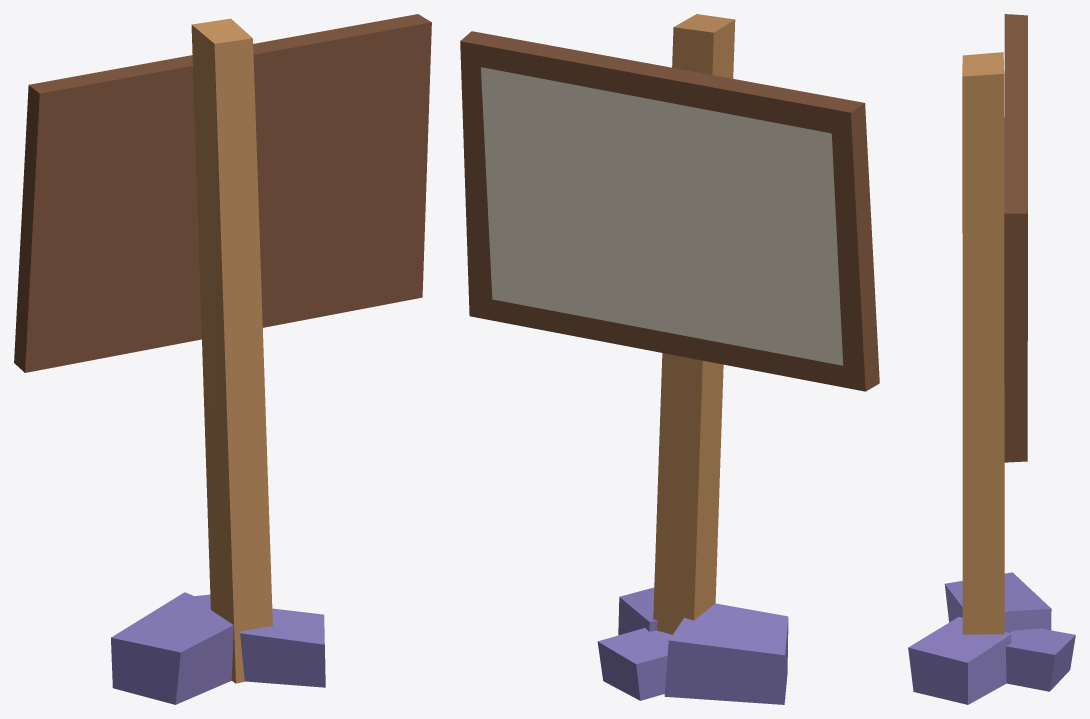
File: signpost.fbx
The picture shows the model from 3 angles, left to right: view 1: azimuth 30°, elevation 25°; view 2: azimuth 150°, elevation 25°; view 3: azimuth 270°, elevation 25°; orthographic projection. The views are drawn at different scales.
Visible parts, largest first — view 1: signpost; view 2: signpost; view 3: signpost.
Boxes of the visible parts, x1,y1,x2,y2 form: signpost: (14,14,431,704); signpost: (460,14,879,704); signpost: (908,14,1075,704).
Bounding box in the file's own units: 0.9296 × 1.42 × 0.3583.
